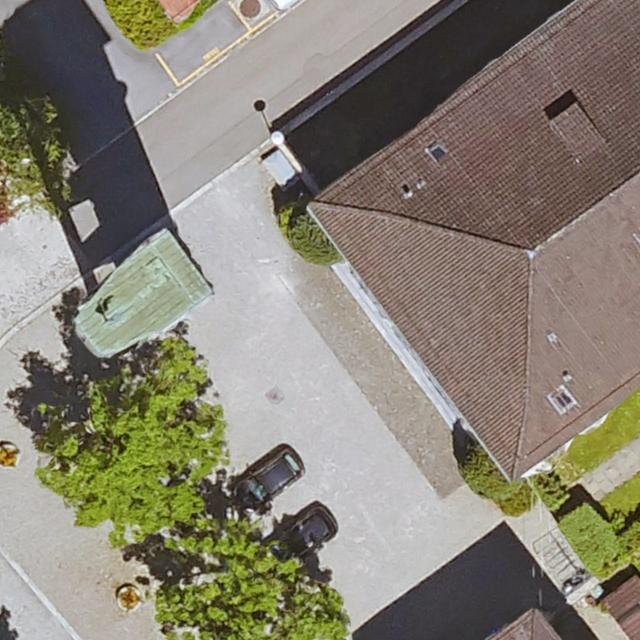tree: (45, 328, 225, 547), (158, 518, 349, 640), (0, 52, 67, 225)
